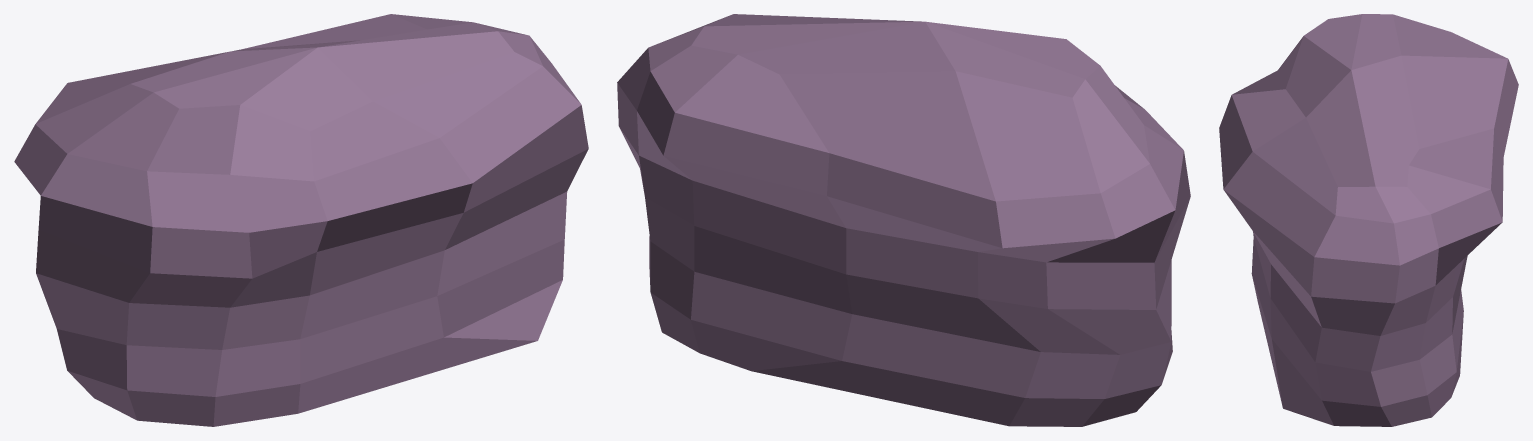
File: boulder_4_v1.fbx
3 renders of one model, left to right at view 1: azimuth 30°, elevation 25°; view 2: azimuth 150°, elevation 25°; view 3: azimuth 270°, elevation 25°, orthographic. The views are drawn at different scales.
Parts seen in each view (by area): view 1: boulder_4; view 2: boulder_4; view 3: boulder_4.
Part boxes in pixels (x1=…): boulder_4: x1=14, y1=14, x2=588, y2=426; boulder_4: x1=617, y1=14, x2=1190, y2=426; boulder_4: x1=1219, y1=14, x2=1518, y2=426.
Bounding box in the file's own units: 12.46 × 7.3 × 7.27.
